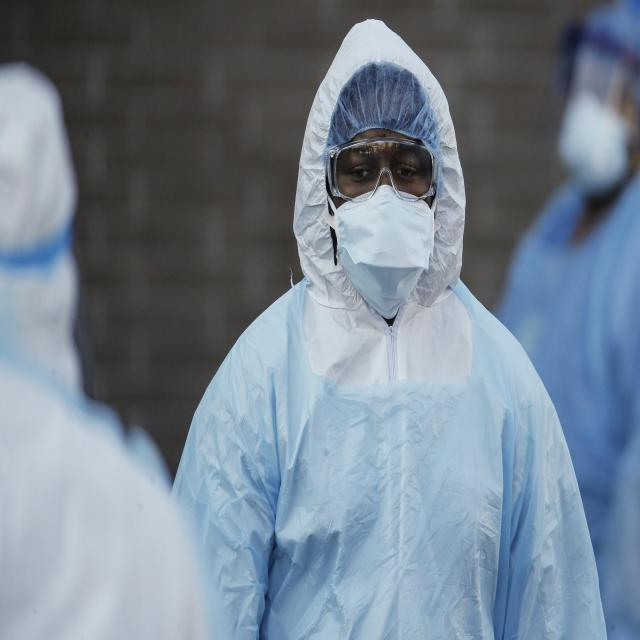Coverall: (172, 21, 606, 638), (1, 64, 206, 639), (499, 198, 639, 634)
Goggles: (323, 139, 439, 203)
Mask: (329, 187, 439, 322), (562, 98, 625, 190)
